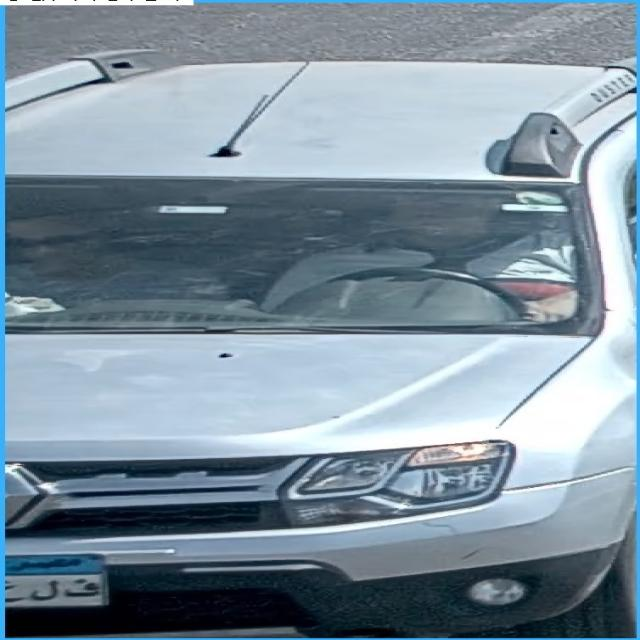windshield: (5, 177, 596, 334)
